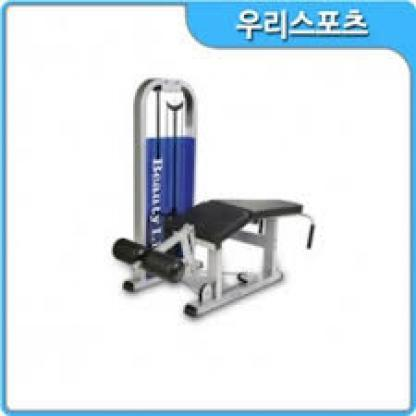reg curl machine: (110, 68, 319, 320)
